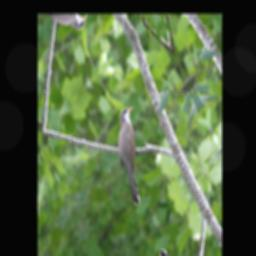Cuckoo: (99, 100, 168, 209)
